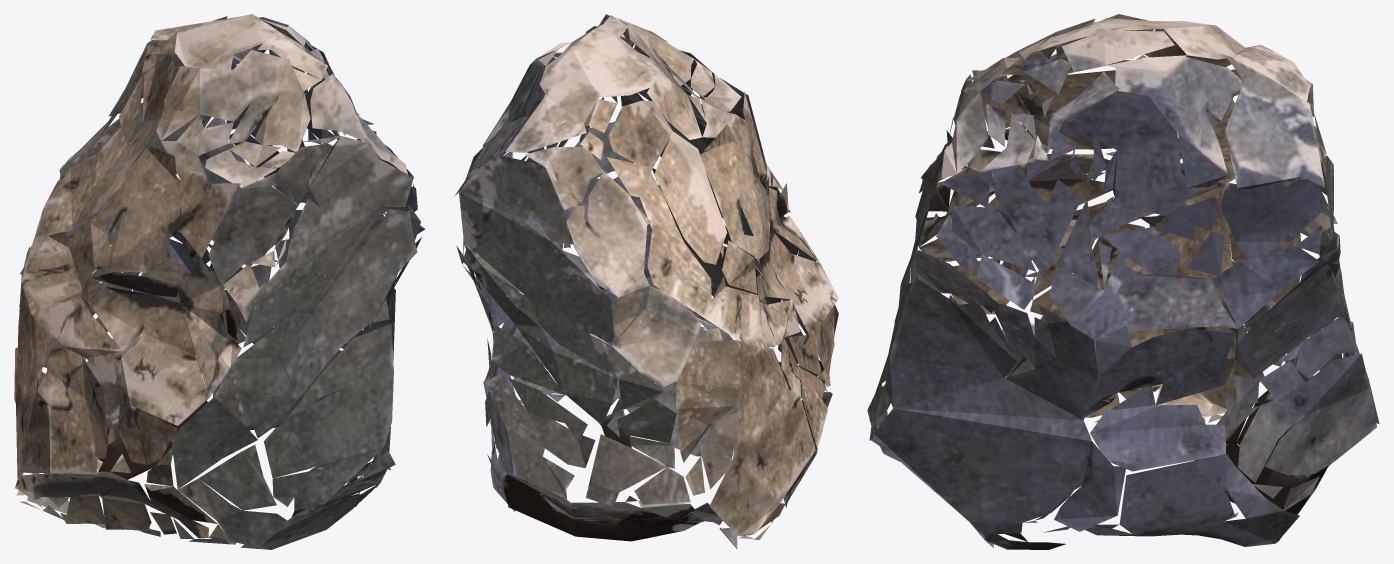
Rendered from rock_big.glb.
The picture shows the model from 3 angles, left to right: view 1: azimuth 30°, elevation 25°; view 2: azimuth 150°, elevation 25°; view 3: azimuth 270°, elevation 25°; orthographic projection. The views are drawn at different scales.
Visible parts, largest first — view 1: geometry_0; view 2: geometry_0; view 3: geometry_0.
Boxes of the visible parts, bbox=[...] form: geometry_0: bbox=[14, 14, 425, 549]; geometry_0: bbox=[455, 14, 838, 549]; geometry_0: bbox=[867, 14, 1379, 549].
Bounding box in the file's own units: 1.47 × 1.99 × 1.74.
Materials: 1 (1 with a texture image).
